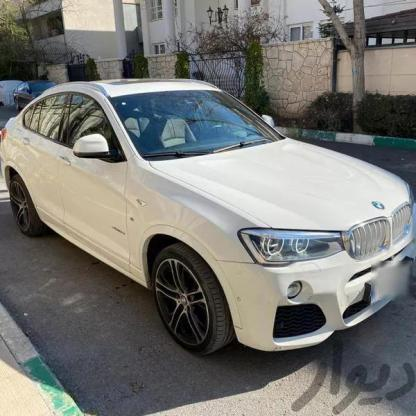Car: (0, 70, 416, 340), (5, 75, 46, 102)
